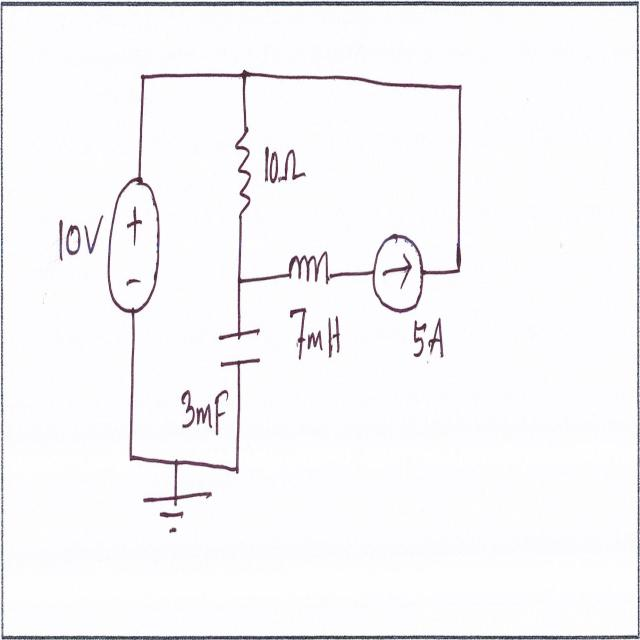capacitor: (217, 322, 261, 382)
current_source: (370, 225, 426, 321)
ground: (141, 488, 216, 538)
inductor: (284, 242, 332, 300)
resistor: (230, 125, 257, 219)
voltage_source: (105, 169, 163, 325)
